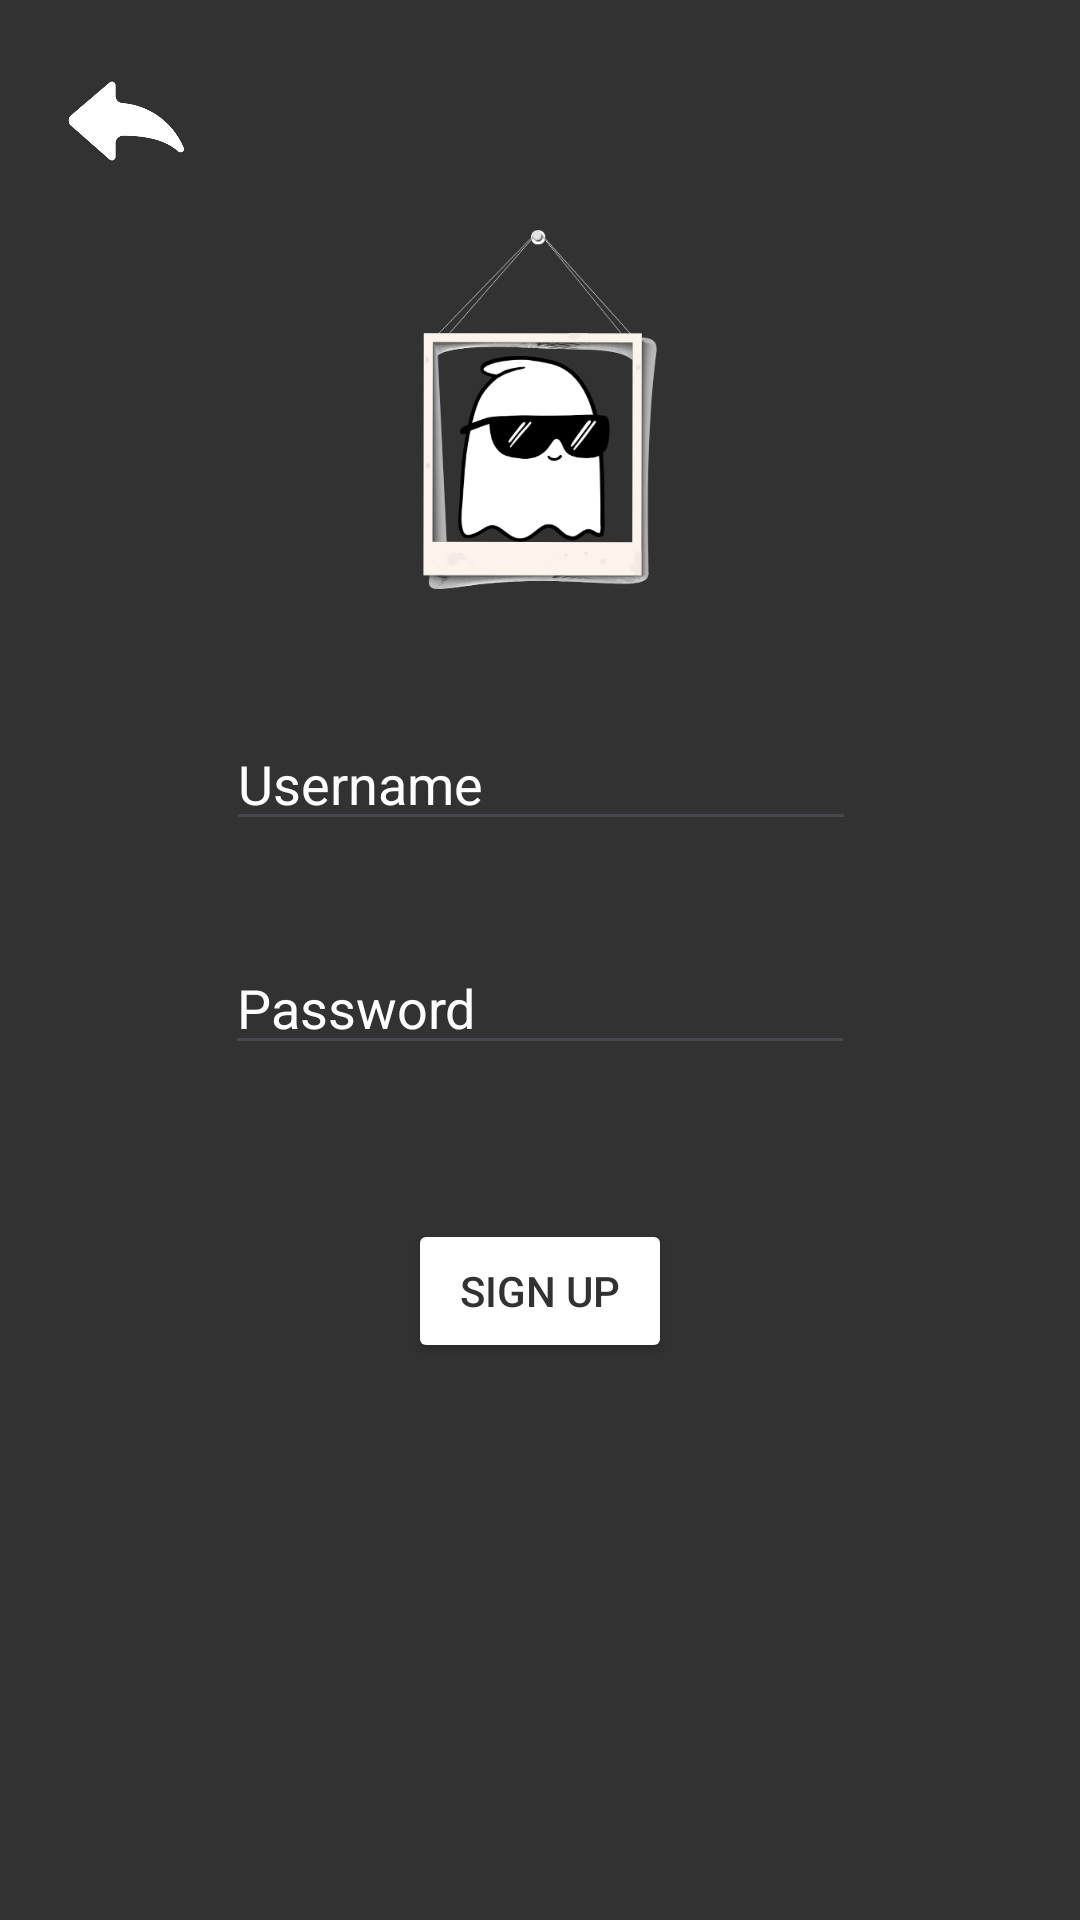

Where to tap for icons on this 1080 x 1920 app screen, as point (x, y):
back: point (126, 121)
